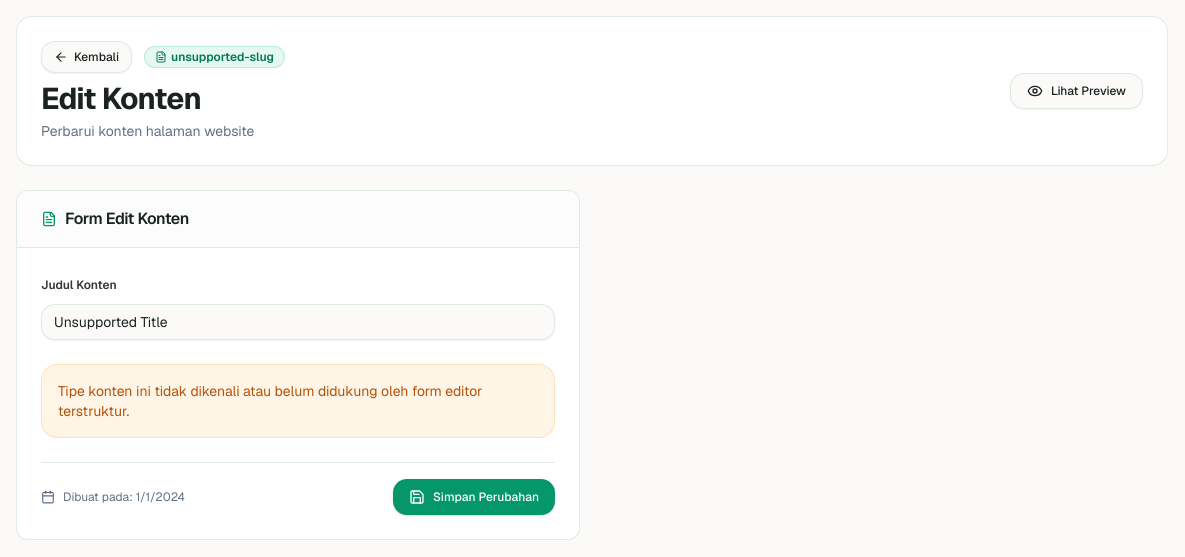
Test: EditKontenPage › should show warning cards for unsupported slugs in form and preview
Expected: the text "Tipe konten ini tidak dikenali atau belum didukung oleh form editor terstruktur." is shown, [41,364,555,438]
Note: Click preview button
Step 1. Click the button "Lihat Preview" → (1076, 91), box [1010,73,1143,109]
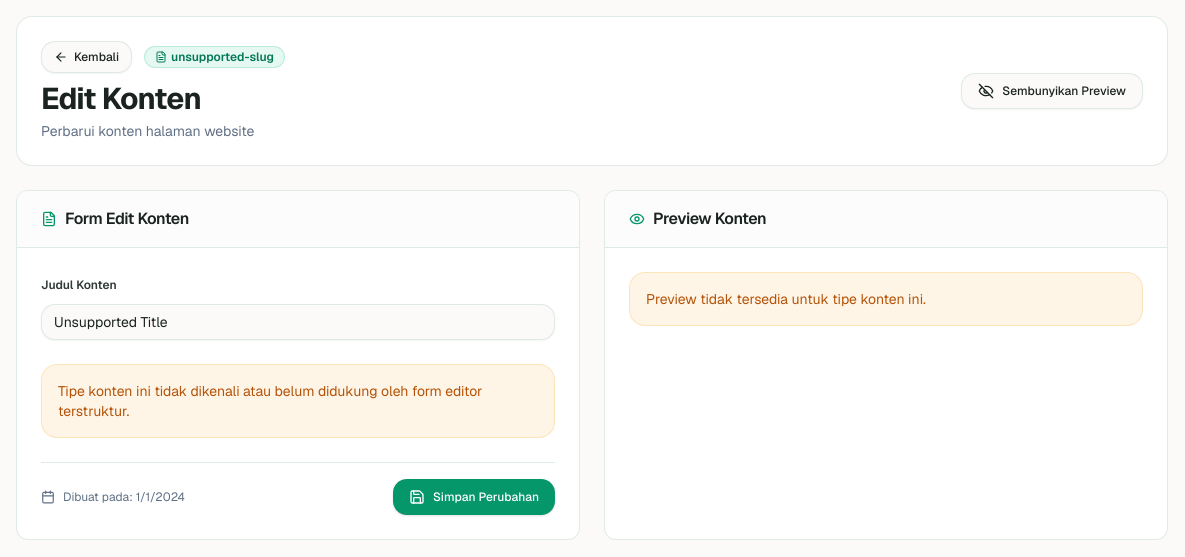
Expected: the text "Preview tidak tersedia untuk tipe konten ini." is shown, [629,272,1143,326]
